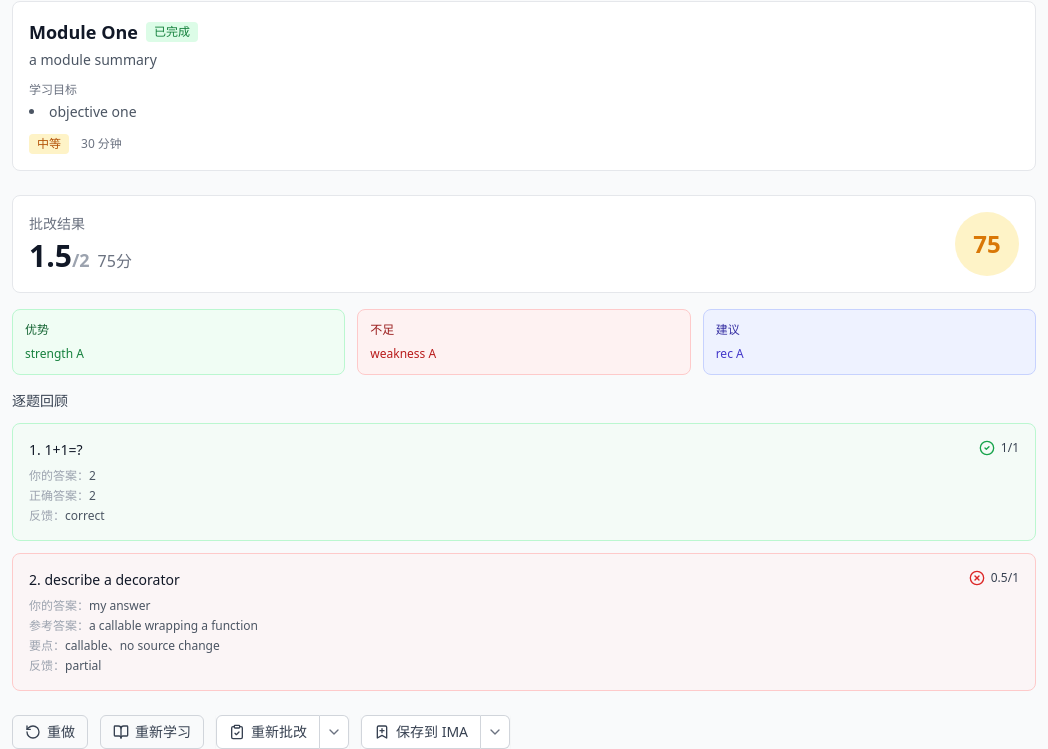
ModuleDetail › "重做" returns to the quiz answering tab
(page scrolled)
Expected: the text "批改结果" is shown, [29,214,85,233]
Click the button "重做" at (50,732), box [12,715,88,748]
(page scrolled)
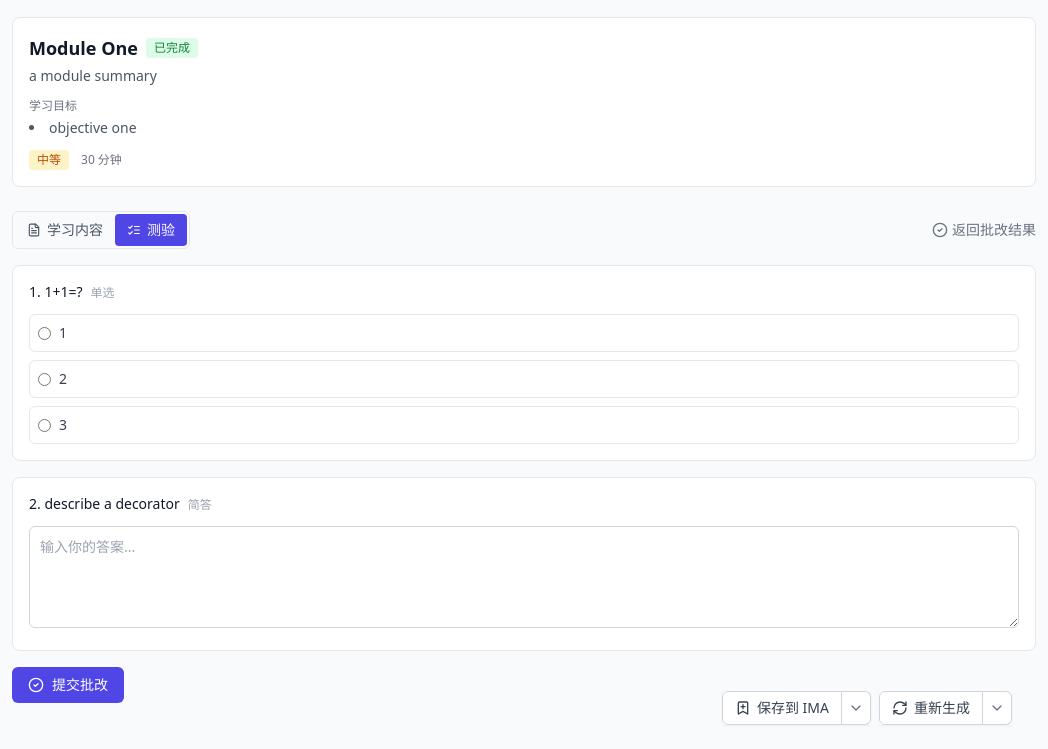
Expected: the button "提交批改" is shown, [12,667,124,703]
